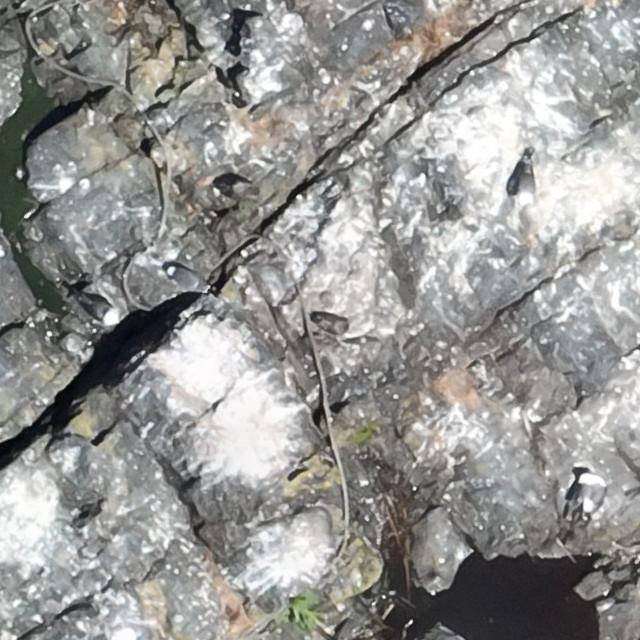umineko: (74, 286, 123, 324), (568, 472, 594, 520), (588, 476, 606, 519), (170, 268, 204, 290), (517, 168, 533, 202)
